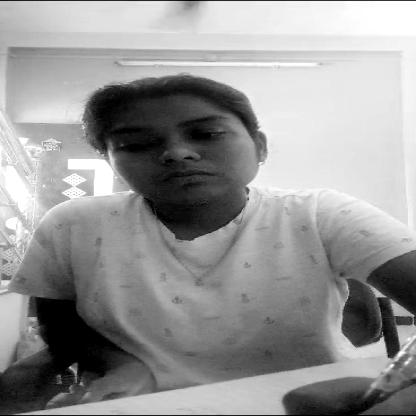Normal: (84, 80, 275, 209)
